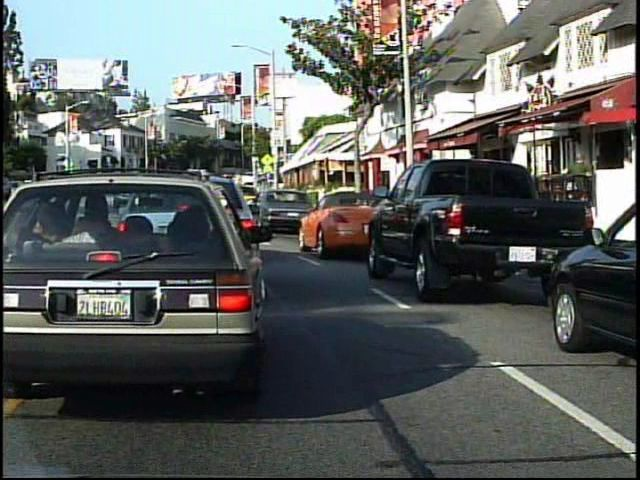person: (564, 148, 596, 224)
